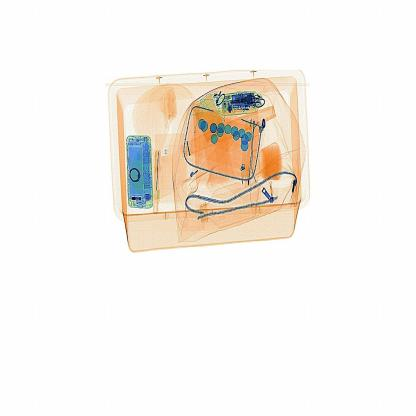wrench: (146, 140, 166, 226)
